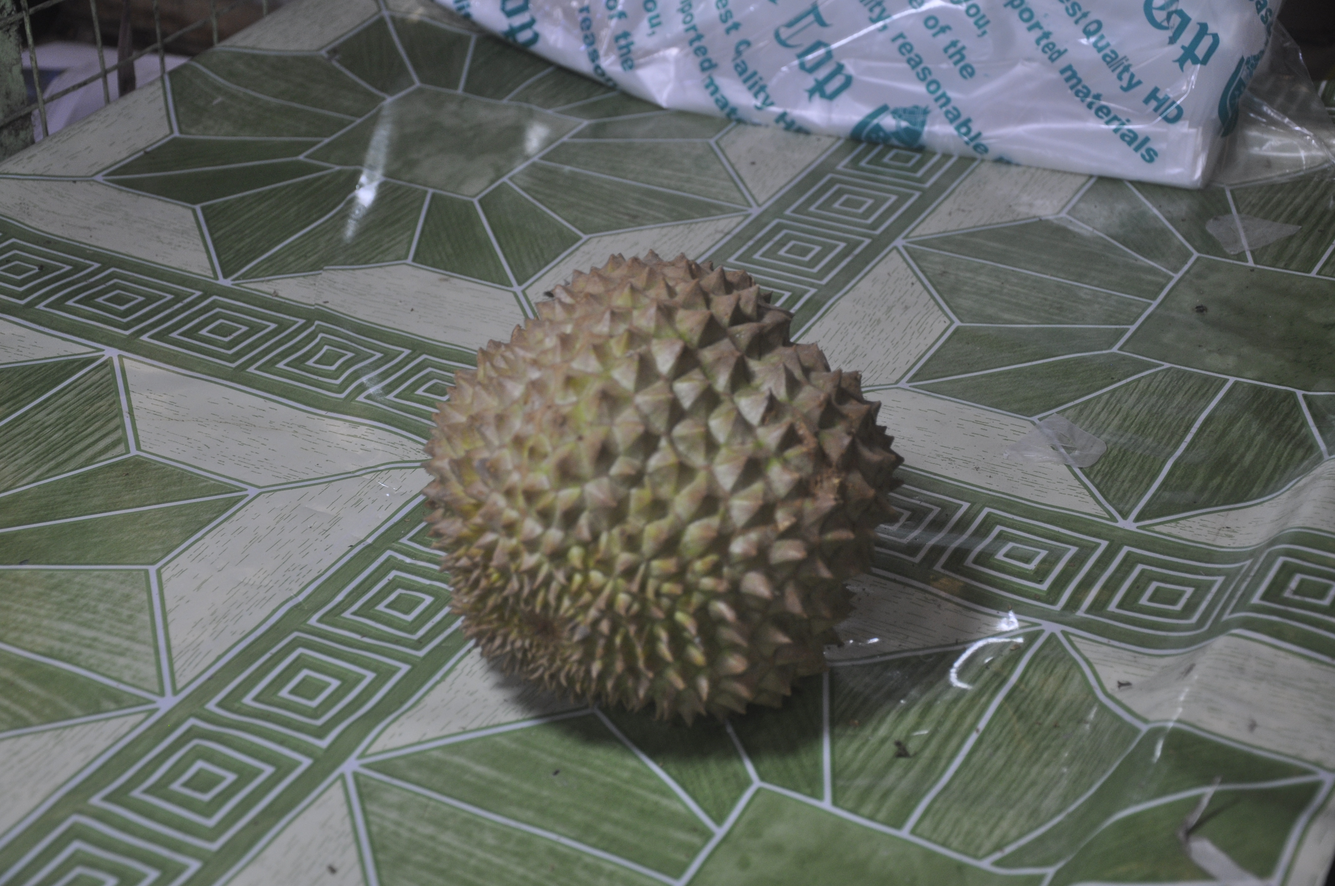mature: (425, 252, 902, 747)
